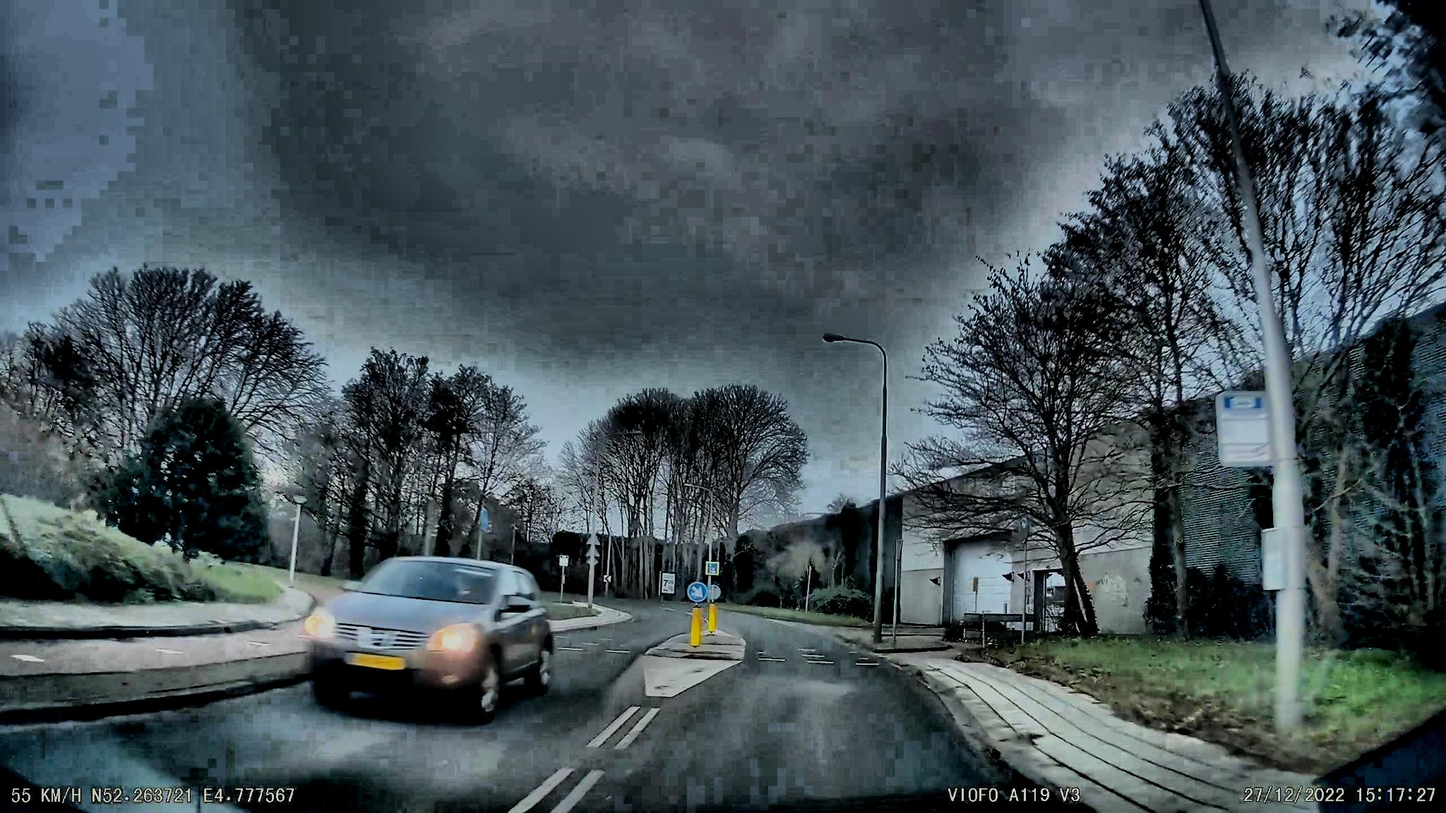Roads: (0, 614, 1234, 813)
